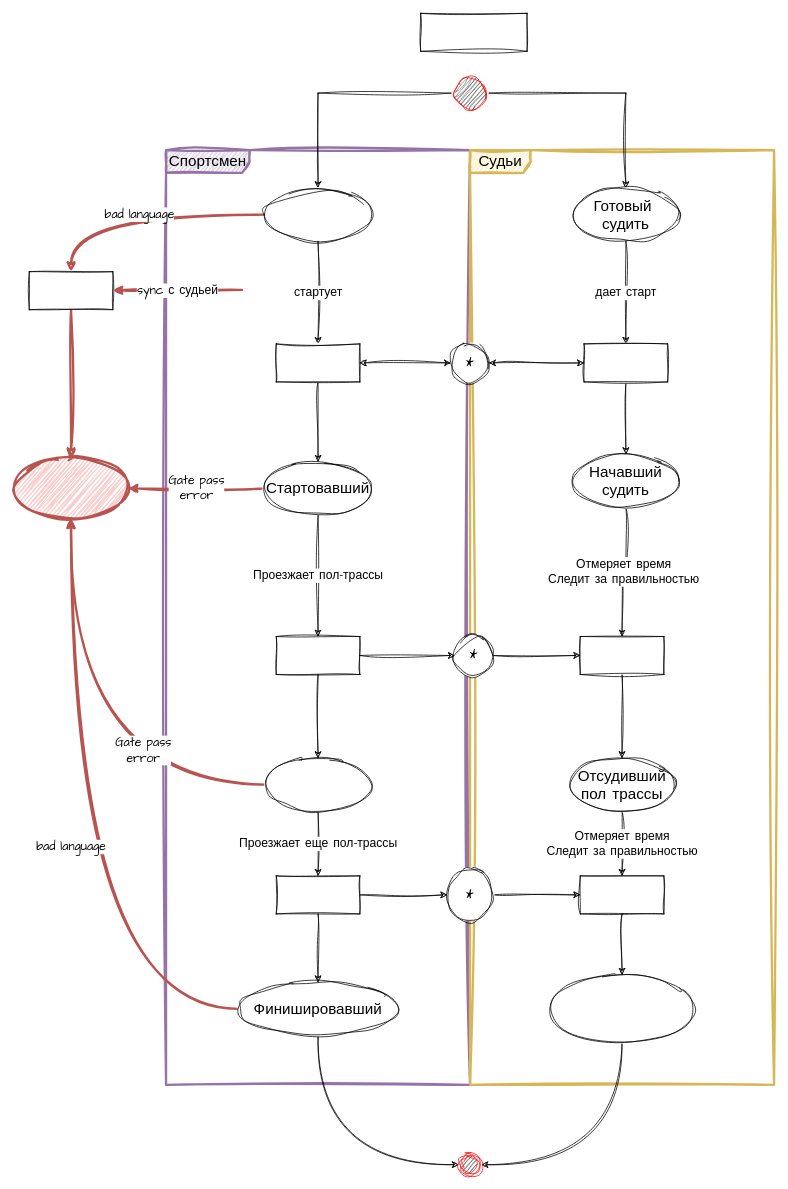
The diagram is 788 pixels wide and 1189 high, and some of its shapes have lost their labels. The shapes that lost their labels are listed below. From the top down, each one's centre as x and y in pixels, then its label:
At (473,32): "Горные лыжи".
At (317,214): "Готовый к выступлению".
At (71,487): "Нарушивший правила".
At (317,784): "Проехавший пол трассы".
At (621,1008): "Полностью отсудивший выступление".
